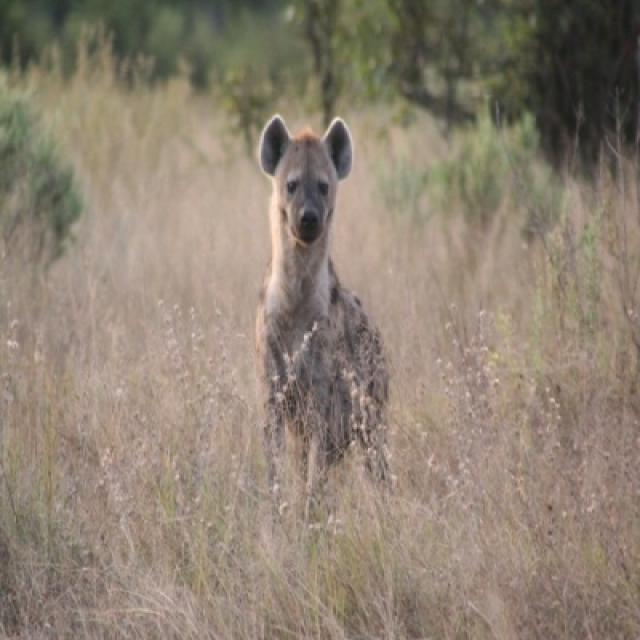hyena: (256, 117, 390, 488)
